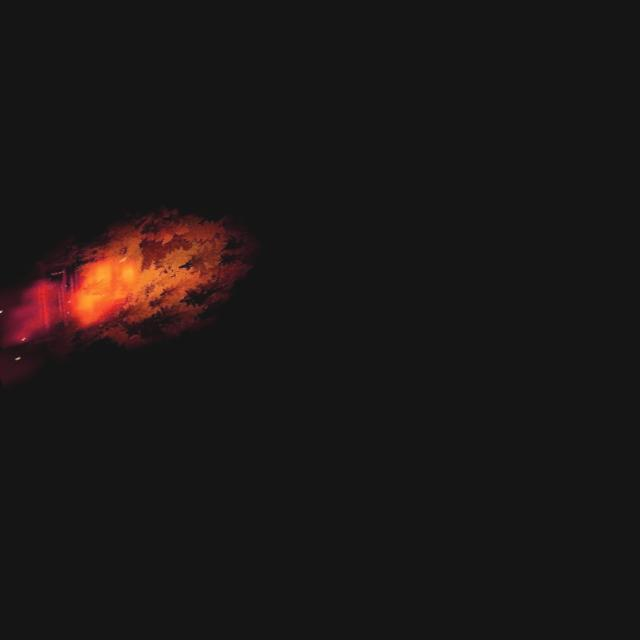fire: (0, 239, 148, 357)
